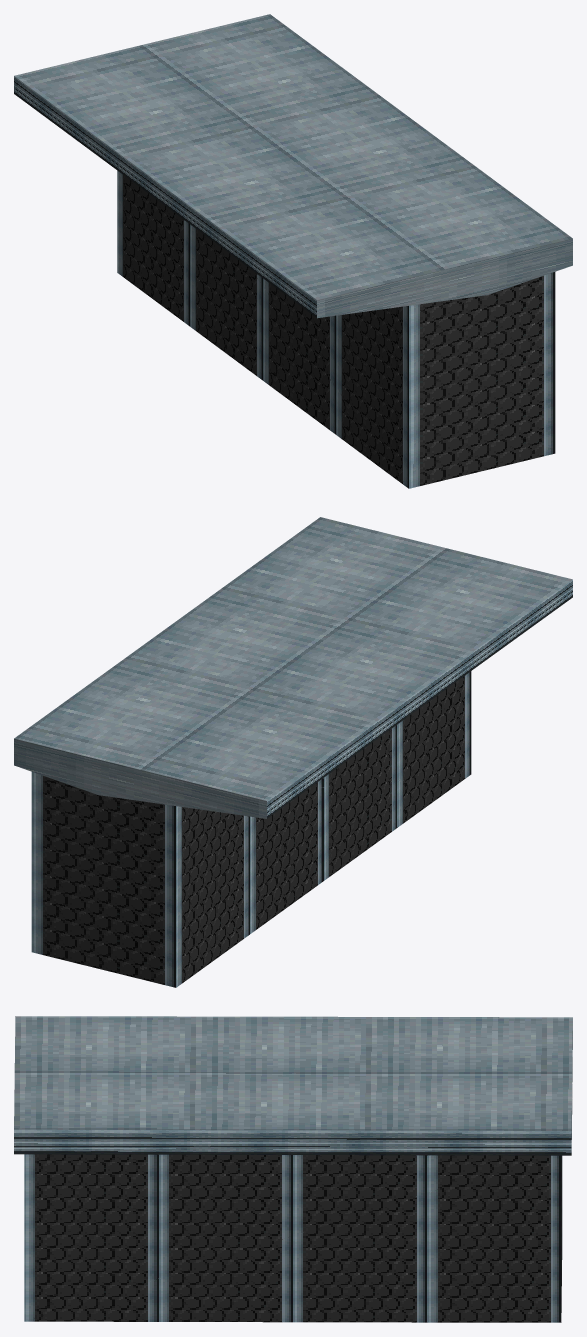
Rendered from control_metal_cage_6.glb.
The picture shows the model from 3 angles, top to bottom: view 1: azimuth 30°, elevation 25°; view 2: azimuth 150°, elevation 25°; view 3: azimuth 270°, elevation 25°; orthographic projection. The views are drawn at different scales.
Parts seen in each view (by area): view 1: Object; view 2: Object; view 3: Object.
Part boxes in pixels (x1,y1,x2,y2): Object: [14, 14, 572, 488]; Object: [14, 517, 572, 987]; Object: [14, 1016, 572, 1322].
Size of the model in its own units: 1.27 by 1.02 by 2.62.
Materials: 3 (3 with a texture image).
